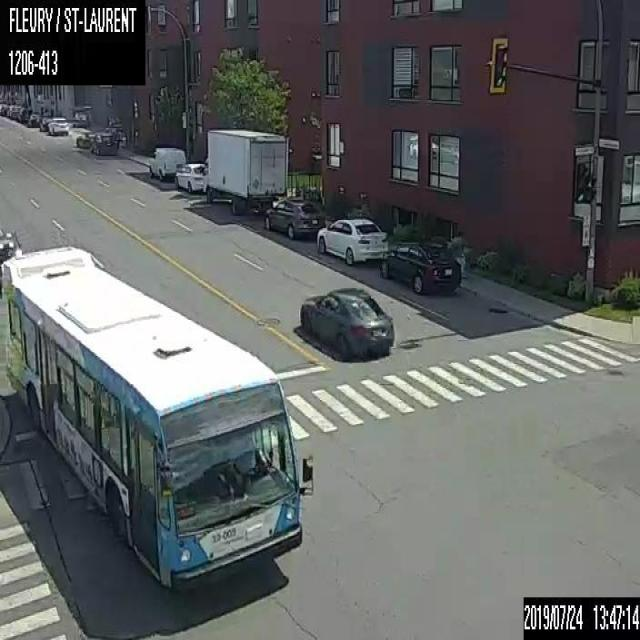bus: (0, 246, 313, 590)
pedestrian: (449, 229, 466, 279)
vehicle: (202, 128, 288, 215), (299, 286, 393, 362), (380, 240, 462, 295), (316, 217, 389, 266), (264, 198, 324, 239), (147, 146, 185, 181), (174, 162, 204, 192), (89, 132, 116, 155), (48, 116, 68, 136), (75, 129, 91, 148), (38, 116, 48, 130)
